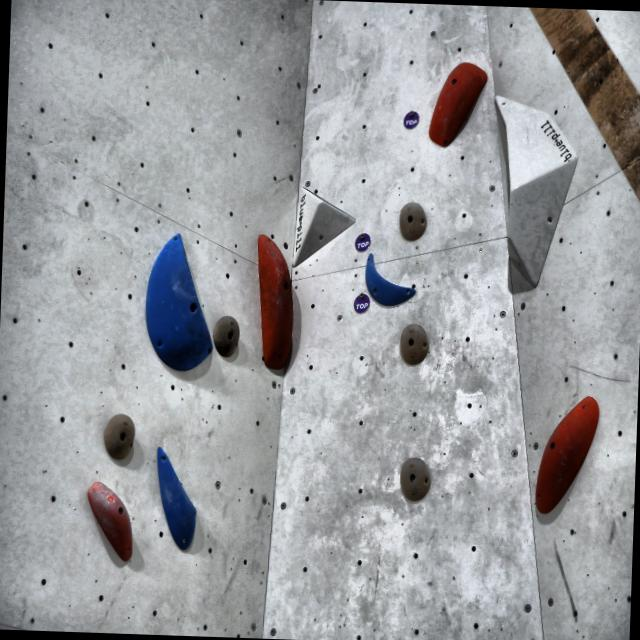Hold: (146, 229, 218, 372), (524, 394, 604, 521), (250, 226, 298, 380), (150, 442, 207, 550), (428, 56, 491, 153), (81, 478, 138, 570), (360, 254, 420, 306)
